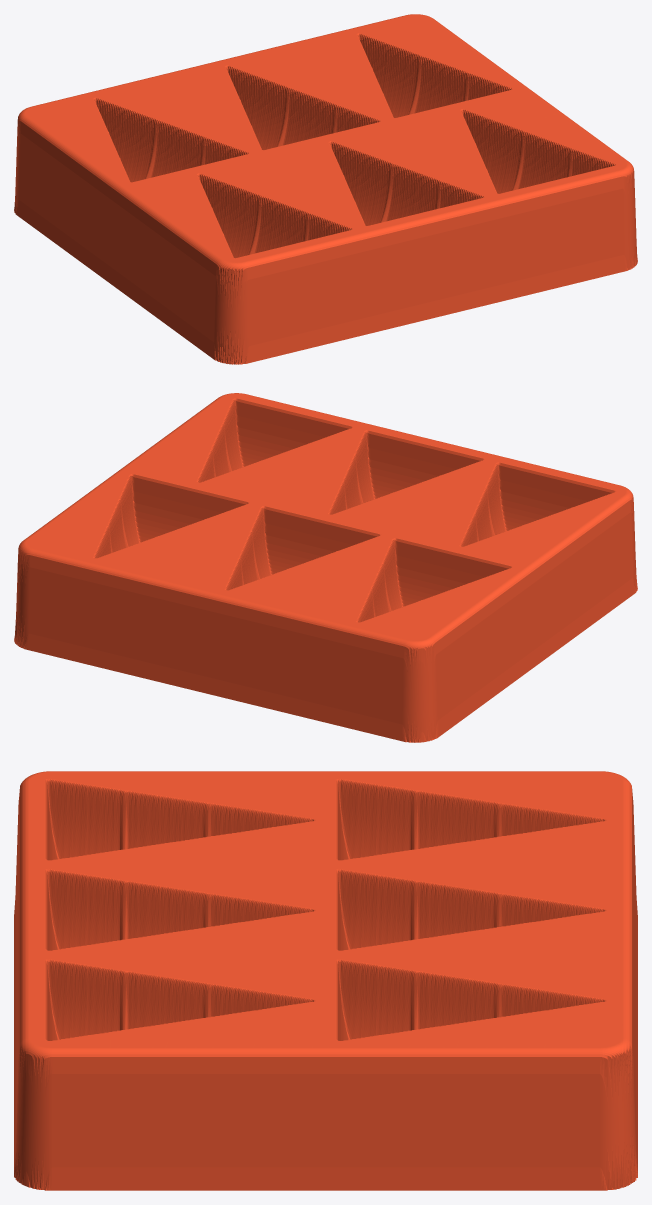
Rendered from mold.glb.
3 views of the same model, one above another, from view 1: azimuth 30°, elevation 25°; view 2: azimuth 150°, elevation 25°; view 3: azimuth 270°, elevation 25° (orthographic). The views are drawn at different scales.
Visible parts, largest first — view 1: geometry_0; view 2: geometry_0; view 3: geometry_0.
Boxes of the visible parts, <box> form: geometry_0: <box>14,14,637,364</box>; geometry_0: <box>14,393,637,742</box>; geometry_0: <box>14,771,637,1190</box>.
Size of the model in its own units: 0.1633 by 0.036 by 0.1492.
